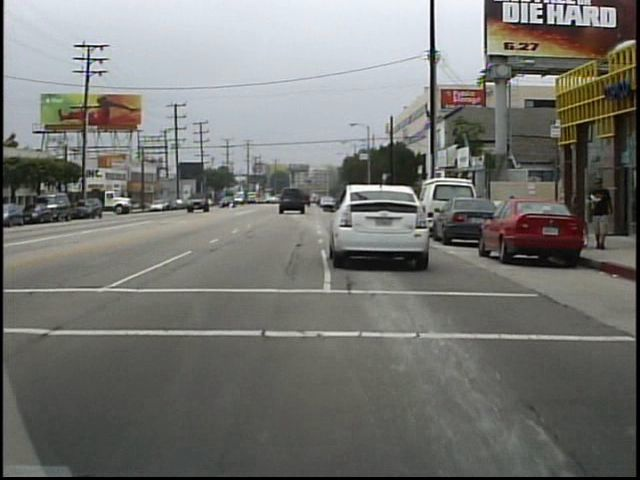person: (586, 173, 616, 253)
